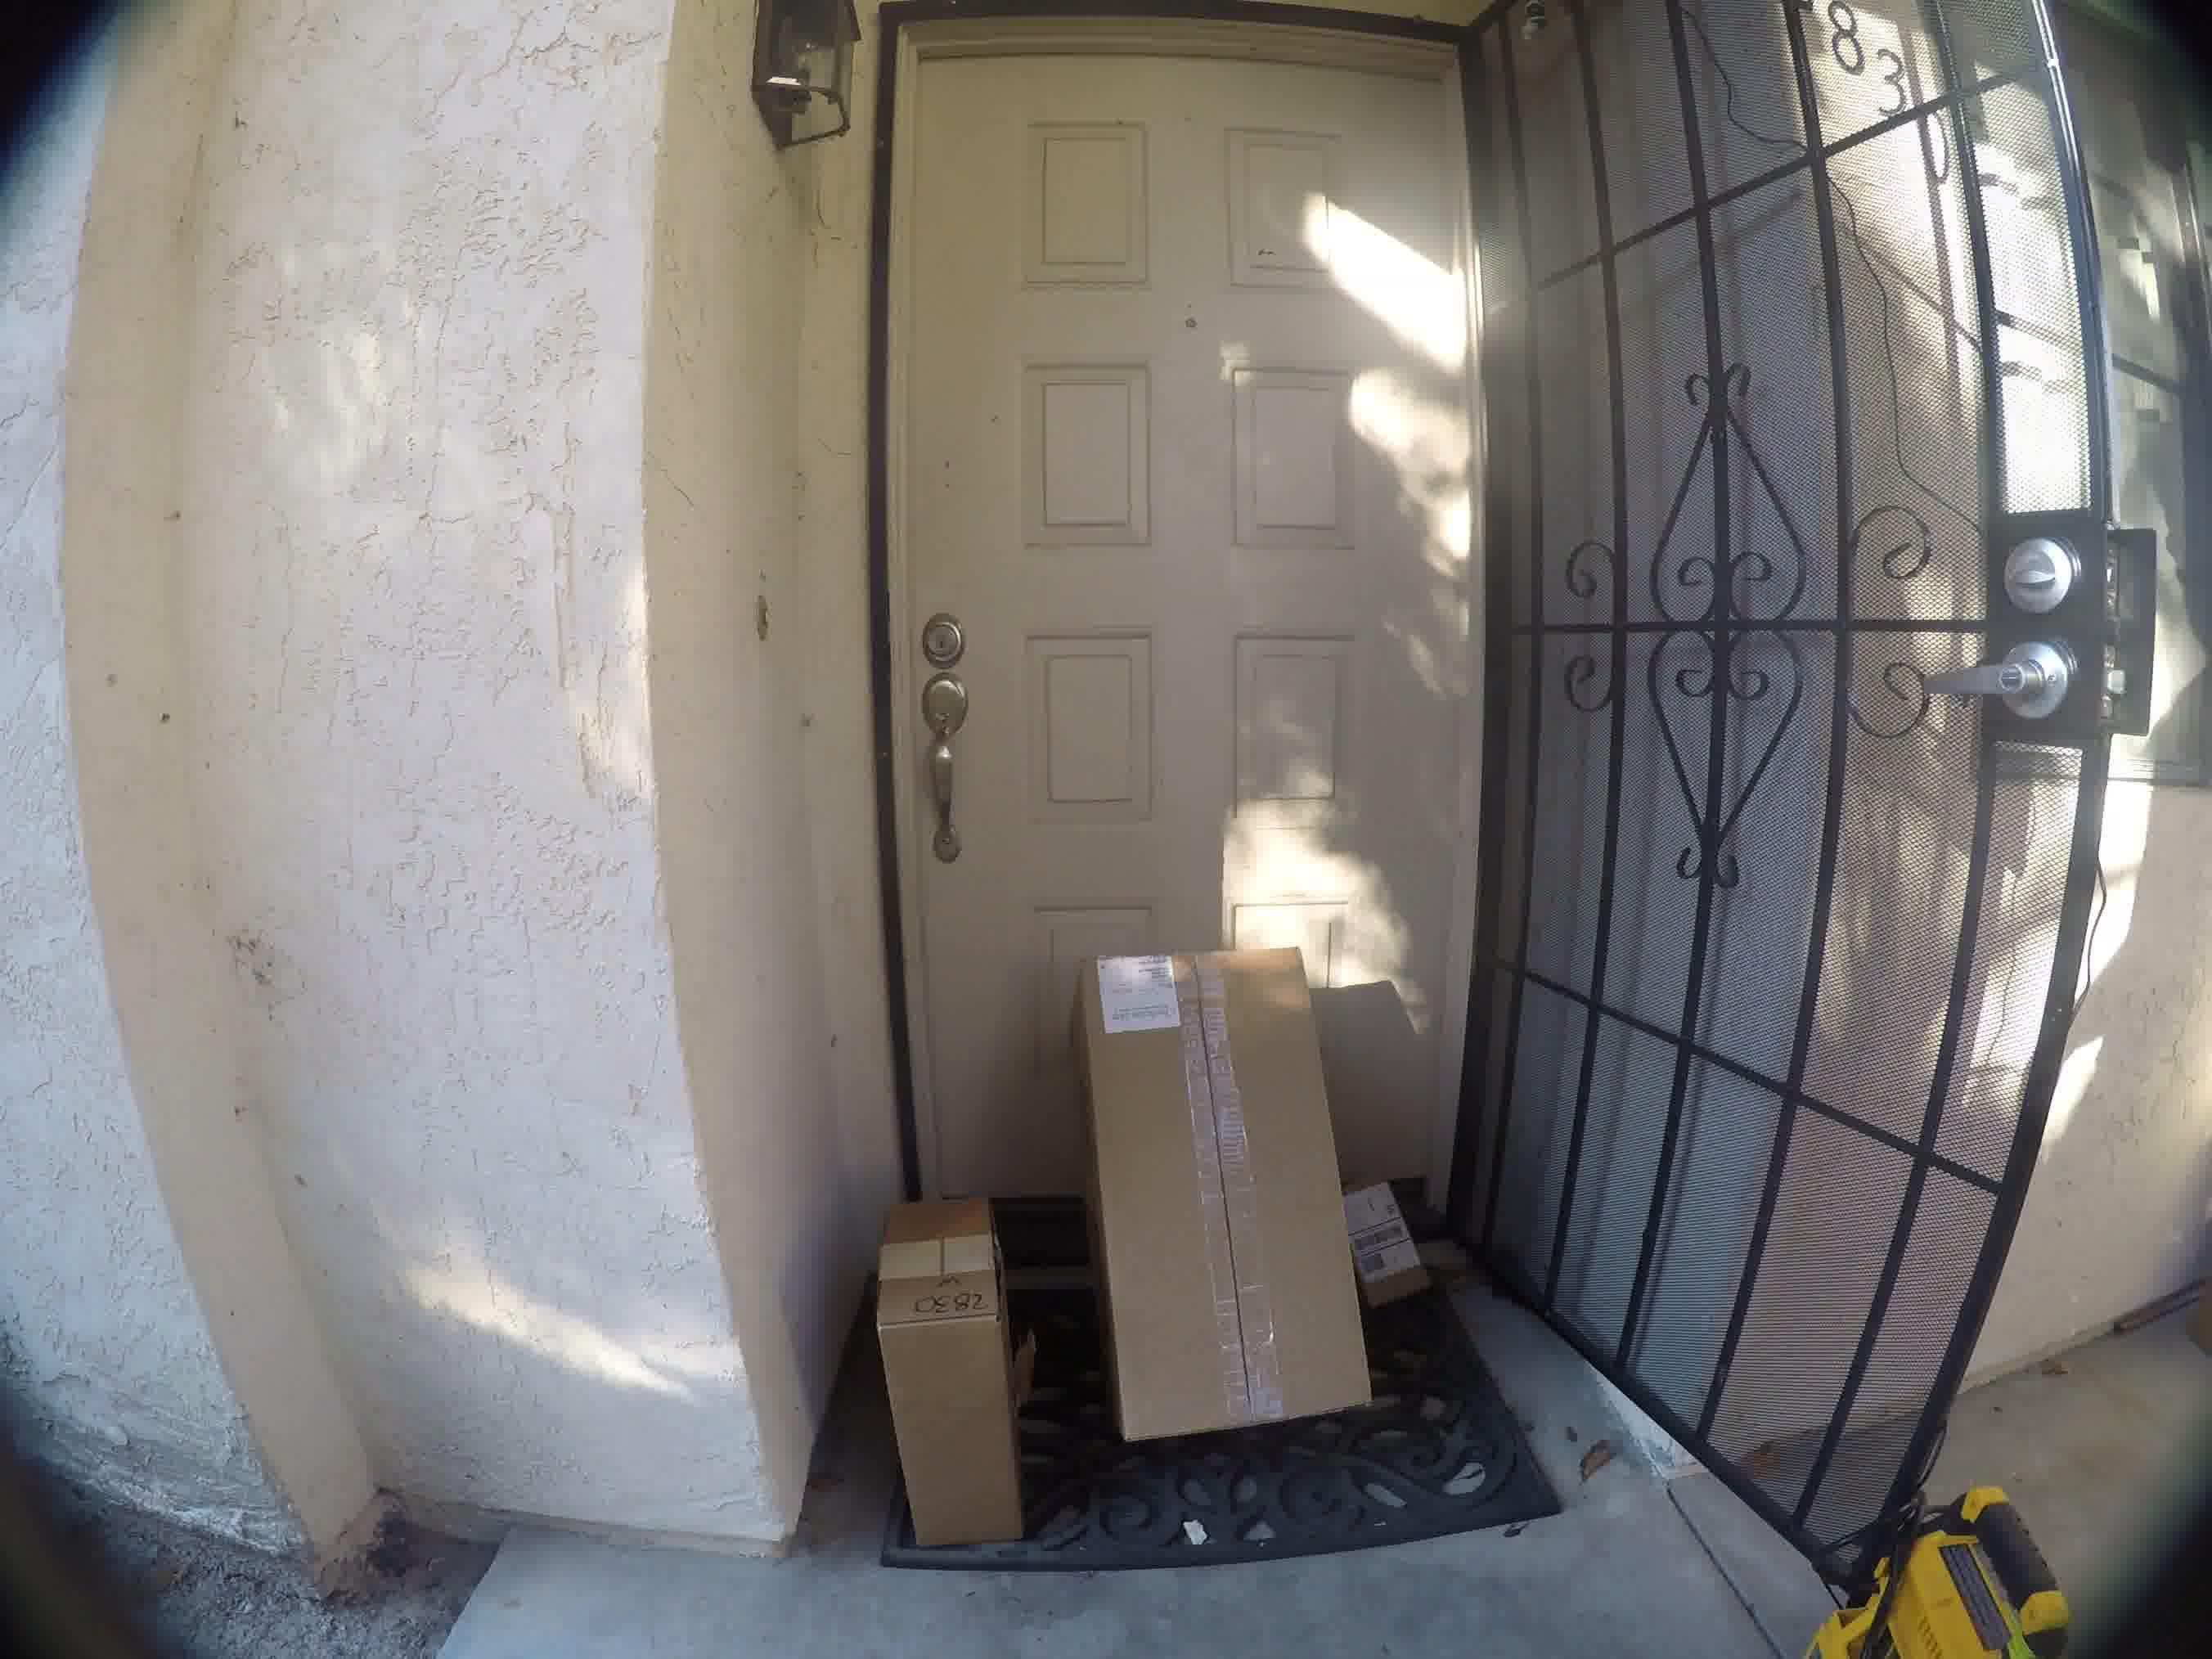box: (1064, 932, 1378, 1445), (859, 1173, 1026, 1558)
